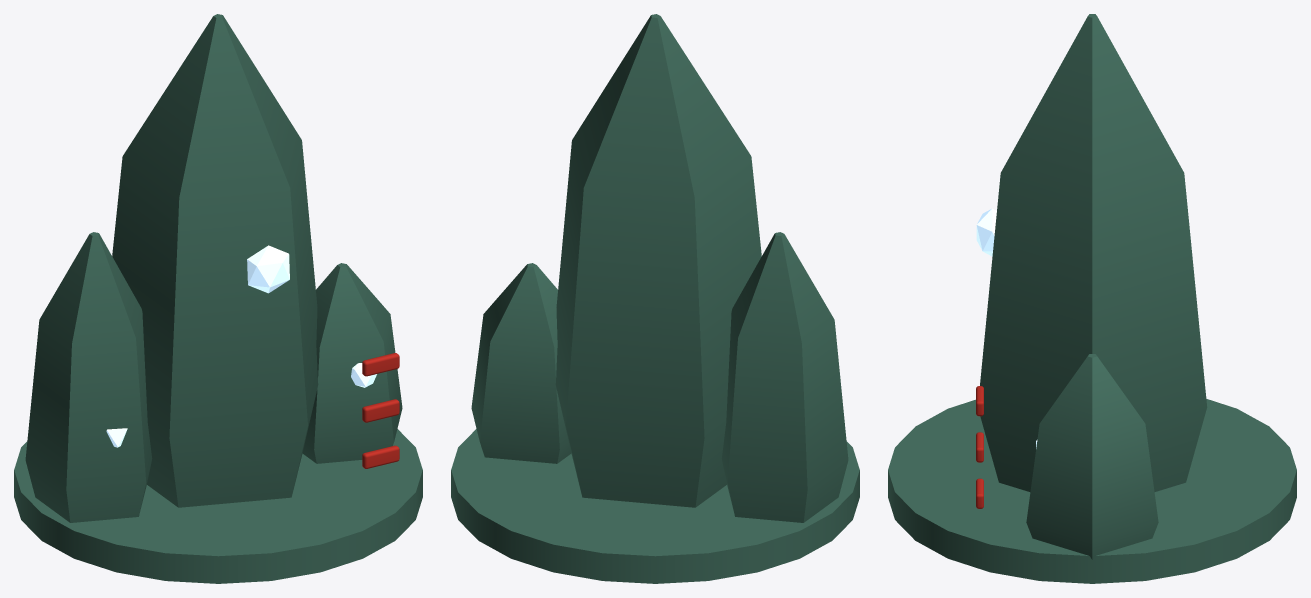
The picture shows the model from 3 angles, left to right: view 1: azimuth 30°, elevation 25°; view 2: azimuth 150°, elevation 25°; view 3: azimuth 270°, elevation 25°; orthographic projection.
Parts seen in each view (by area): view 1: Faceted crystal tower, Foundation drum, Faceted crystal tower.002, Faceted crystal tower.001, Central luminous node, Crystal red identifying inset.001, Crystal red identifying inset, Crystal red identifying inset.002; view 2: Faceted crystal tower, Foundation drum, Faceted crystal tower.002, Faceted crystal tower.001; view 3: Faceted crystal tower, Foundation drum, Faceted crystal tower.001, Central luminous node.
Part boxes in pixels (bbox=[...]): Faceted crystal tower: bbox=[112, 14, 318, 507]; Foundation drum: bbox=[14, 429, 422, 583]; Faceted crystal tower.002: bbox=[25, 232, 152, 522]; Faceted crystal tower.001: bbox=[302, 263, 402, 463]; Central luminous node: bbox=[247, 245, 289, 293]; Crystal red identifying inset.001: bbox=[362, 399, 399, 422]; Crystal red identifying inset: bbox=[362, 445, 399, 468]; Crystal red identifying inset.002: bbox=[362, 353, 399, 376]; Faceted crystal tower: bbox=[555, 14, 761, 507]; Foundation drum: bbox=[451, 429, 859, 583]; Faceted crystal tower.002: bbox=[721, 232, 848, 522]; Faceted crystal tower.001: bbox=[471, 263, 571, 463]; Faceted crystal tower: bbox=[980, 14, 1207, 491]; Foundation drum: bbox=[888, 399, 1296, 583]; Faceted crystal tower.001: bbox=[1026, 354, 1158, 559]; Central luminous node: bbox=[976, 208, 996, 256].
Bounding box in the file's own units: 2.04 × 2.6 × 2.
